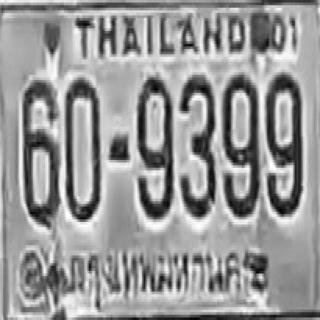N00: (64, 75, 100, 219)
N03: (178, 74, 214, 215)
N06: (22, 78, 59, 222)
N09: (264, 70, 301, 214), (221, 72, 258, 214), (136, 74, 172, 218)
P04: (61, 242, 259, 301)
